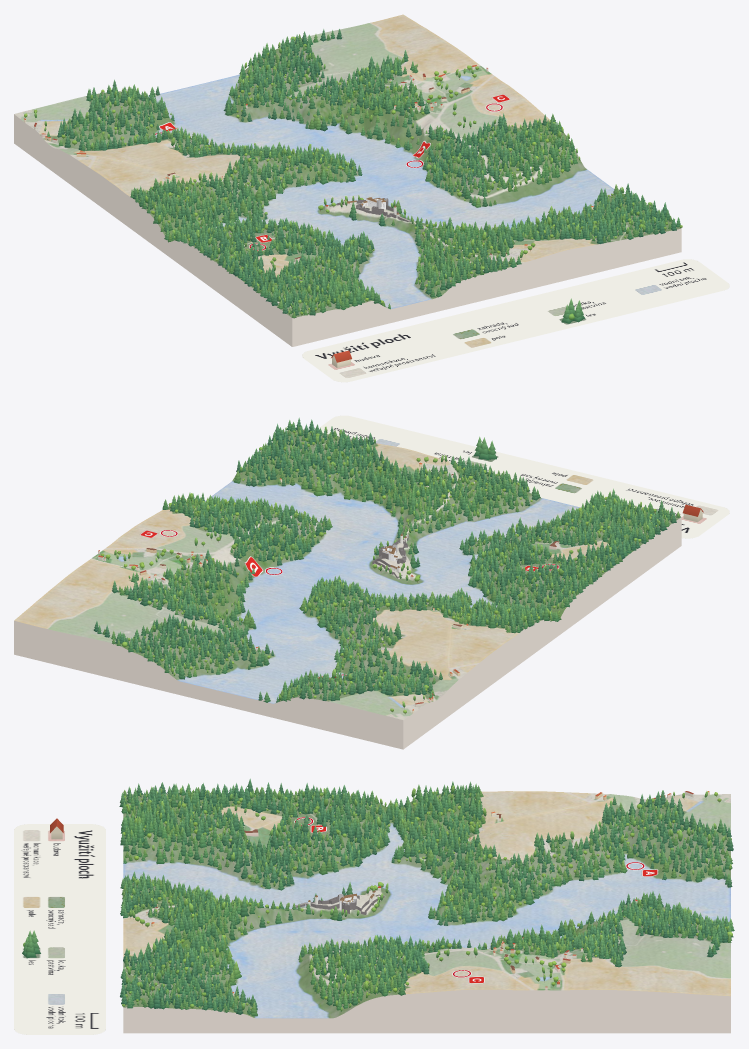
The model's file is Zvikov_sada1_RUIAN.glb.
The picture shows the model from 3 angles, top to bottom: view 1: azimuth 30°, elevation 25°; view 2: azimuth 150°, elevation 25°; view 3: azimuth 270°, elevation 25°; orthographic projection. The views are drawn at different scales.
Visible parts, largest first — view 1: dmr5g, Zvikov_stromy_body_RUAIN, legenda_panel, Zvikov_RUIAN_budovy, Node0, legenda_objekty; view 2: dmr5g, Zvikov_stromy_body_RUAIN, legenda_panel, Zvikov_RUIAN_budovy, Node0, legenda_objekty; view 3: dmr5g, Zvikov_stromy_body_RUAIN, legenda_panel, Node0, Zvikov_RUIAN_budovy, legenda_objekty.
Boxes of the visible parts, x1,y1,x2,y2 form: dmr5g: [14, 14, 681, 346]; Zvikov_stromy_body_RUAIN: [24, 29, 682, 318]; legenda_panel: [302, 259, 729, 382]; Zvikov_RUIAN_budovy: [23, 65, 593, 261]; Node0: [336, 197, 409, 221]; legenda_objekty: [331, 298, 585, 367]; dmr5g: [14, 429, 681, 749]; Zvikov_stromy_body_RUAIN: [94, 417, 680, 713]; legenda_panel: [319, 415, 729, 538]; Zvikov_RUIAN_budovy: [98, 462, 559, 713]; Node0: [372, 534, 408, 578]; legenda_objekty: [474, 436, 703, 522]; dmr5g: [123, 791, 730, 1033]; Zvikov_stromy_body_RUAIN: [119, 778, 734, 1016]; legenda_panel: [14, 824, 105, 1034]; Node0: [295, 890, 384, 914]; Zvikov_RUIAN_budovy: [146, 791, 709, 995]; legenda_objekty: [22, 818, 63, 958].
Size of the model in its own units: 1491 by 180 by 2153.
Materials: 10 (6 with a texture image).
